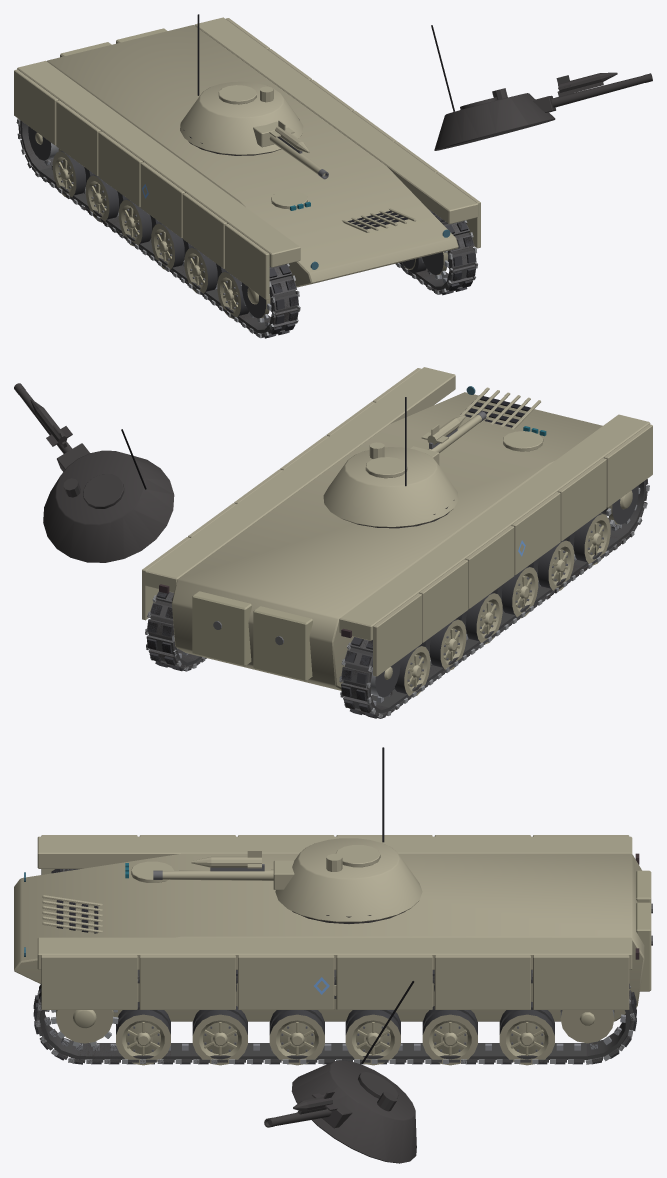
The model's file is apc__bmp_1.glb.
3 views of the same model, one above another, from view 1: azimuth 30°, elevation 25°; view 2: azimuth 150°, elevation 25°; view 3: azimuth 270°, elevation 25° (orthographic). The views are drawn at different scales.
Parts seen in each view (by area): view 1: Hull_Mesh, Wreck, Turret_Mesh, Track_L_Mesh, Track_R_Mesh, Gun_Mesh, Wheel_L1_Mesh, Wheel_L0_Mesh, Wheel_L4_Mesh, Wheel_L2_Mesh, Wheel_L3_Mesh, Wheel_L5_Mesh (+3 smaller); view 2: Hull_Mesh, Wreck, Turret_Mesh, Track_L_Mesh, Track_R_Mesh, Wheel_L2_Mesh, Wheel_L1_Mesh, Wheel_L4_Mesh, Wheel_L5_Mesh, Wheel_L3_Mesh, Gun_Mesh, Wheel_L0_Mesh (+2 smaller); view 3: Hull_Mesh, Wreck, Turret_Mesh, Track_R_Mesh, Gun_Mesh, Wheel_R0_Mesh, Wheel_R1_Mesh, Wheel_R4_Mesh, Wheel_R3_Mesh, Wheel_R5_Mesh, Wheel_R2_Mesh, Sprocket_R_Mesh (+1 smaller).
Part boxes in pixels (bbox=[...]): Hull_Mesh: bbox=[14, 17, 480, 299]; Wreck: bbox=[16, 25, 652, 337]; Turret_Mesh: bbox=[180, 14, 303, 155]; Track_L_Mesh: bbox=[17, 119, 300, 338]; Track_R_Mesh: bbox=[395, 209, 477, 295]; Gun_Mesh: bbox=[253, 120, 328, 179]; Wheel_L1_Mesh: bbox=[85, 175, 127, 222]; Wheel_L0_Mesh: bbox=[52, 151, 94, 197]; Wheel_L4_Mesh: bbox=[184, 247, 226, 294]; Wheel_L2_Mesh: bbox=[118, 199, 160, 246]; Wheel_L3_Mesh: bbox=[151, 223, 193, 269]; Wheel_L5_Mesh: bbox=[217, 271, 248, 318]; Hull_Mesh: bbox=[142, 367, 652, 690]; Wreck: bbox=[14, 383, 647, 718]; Turret_Mesh: bbox=[323, 397, 458, 527]; Track_L_Mesh: bbox=[339, 479, 649, 718]; Track_R_Mesh: bbox=[145, 591, 206, 671]; Wheel_L2_Mesh: bbox=[456, 592, 502, 644]; Wheel_L1_Mesh: bbox=[420, 619, 466, 670]; Wheel_L4_Mesh: bbox=[528, 540, 574, 590]; Wheel_L5_Mesh: bbox=[564, 513, 610, 565]; Wheel_L3_Mesh: bbox=[492, 566, 538, 618]; Gun_Mesh: bbox=[410, 411, 486, 465]; Wheel_L0_Mesh: bbox=[393, 645, 430, 695]; Hull_Mesh: bbox=[14, 835, 652, 1021]; Wreck: bbox=[34, 869, 636, 1163]; Turret_Mesh: bbox=[275, 747, 422, 922]; Track_R_Mesh: bbox=[33, 970, 636, 1064]; Gun_Mesh: bbox=[153, 850, 294, 889]; Wheel_R0_Mesh: bbox=[499, 1002, 554, 1065]; Wheel_R1_Mesh: bbox=[422, 1006, 477, 1065]; Wheel_R4_Mesh: bbox=[192, 1006, 247, 1065]; Wheel_R3_Mesh: bbox=[269, 1010, 324, 1065]; Wheel_R5_Mesh: bbox=[116, 1002, 170, 1065]; Wheel_R2_Mesh: bbox=[345, 1010, 400, 1065]; Sprocket_R_Mesh: bbox=[51, 1010, 118, 1046].
Size of what is drawn, in the model's own units: 7.22 by 2.98 by 7.06.
